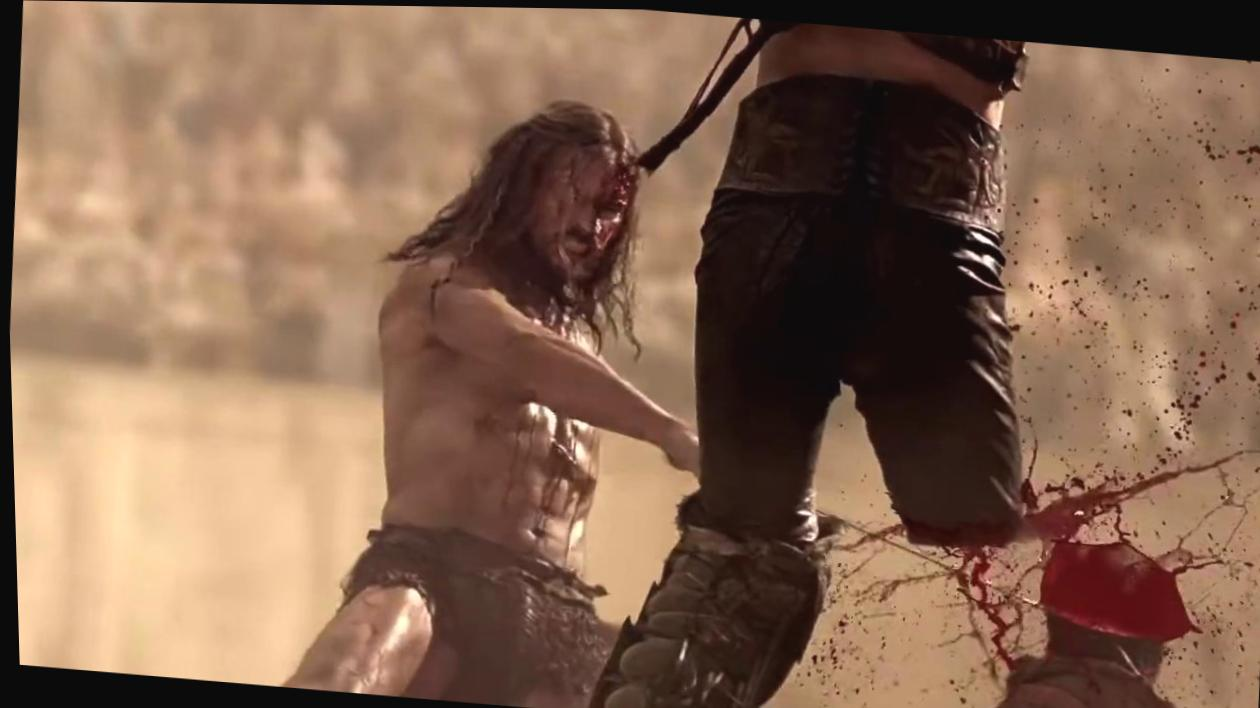Fire: (762, 39, 1260, 708), (576, 150, 638, 286)
